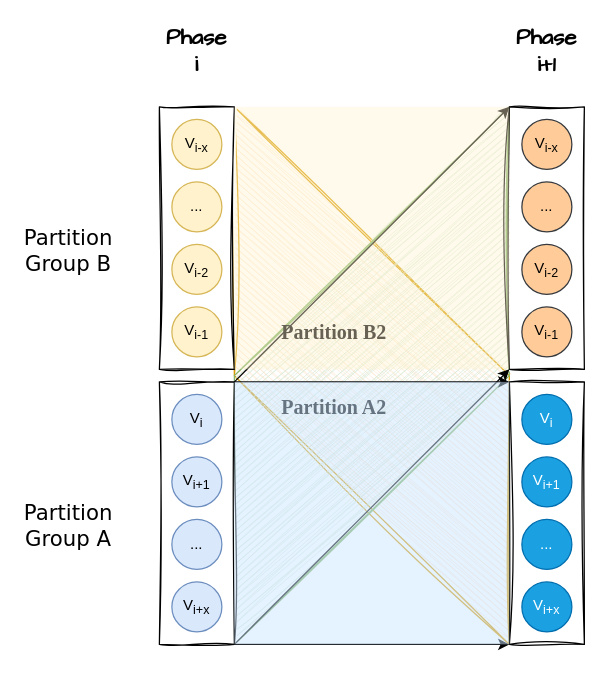
This 606x676 diagram has some shape labels left out. Each missing label, with the centre of its shape:
"Partition A1" goes at point 371,512.
"Partition B1" goes at point 371,237.
